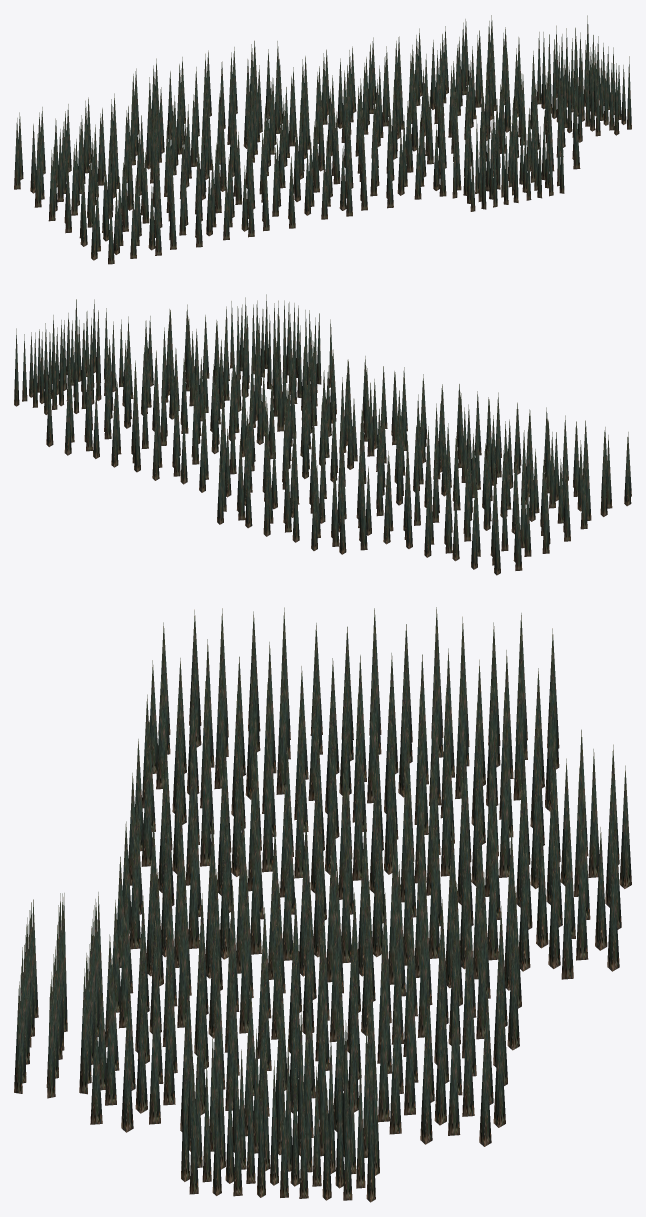
Rendered from EVT_TPL_METALTHORNS_DEADLY.glb.
3 views of the same model, one above another, from view 1: azimuth 30°, elevation 25°; view 2: azimuth 150°, elevation 25°; view 3: azimuth 270°, elevation 25° (orthographic). The views are drawn at different scales.
Visible parts, largest first — view 1: Mesh; view 2: Mesh; view 3: Mesh.
Part boxes in pixels (box(x1,y1,x2,y2)): Mesh: box(14, 15, 631, 264); Mesh: box(14, 294, 631, 575); Mesh: box(14, 607, 631, 1202).
Size of the model in its own units: 28.89 by 4.25 by 15.82.
1 material, 1 textured.
